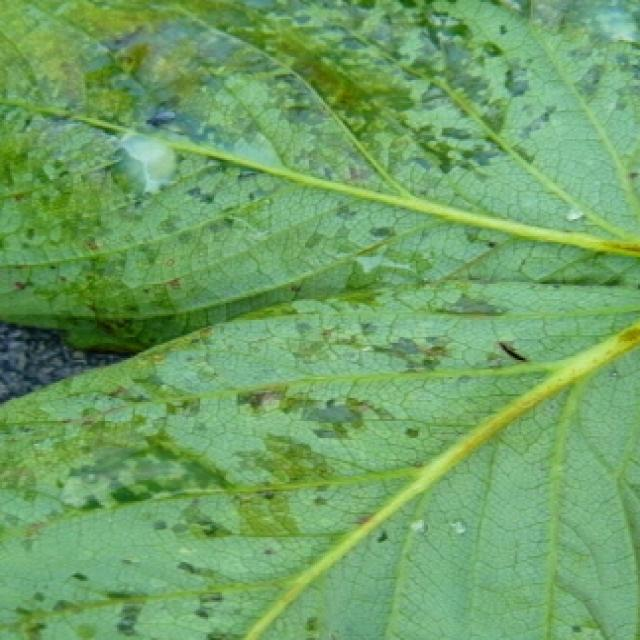Angular Leafspot: (0, 282, 640, 640)
